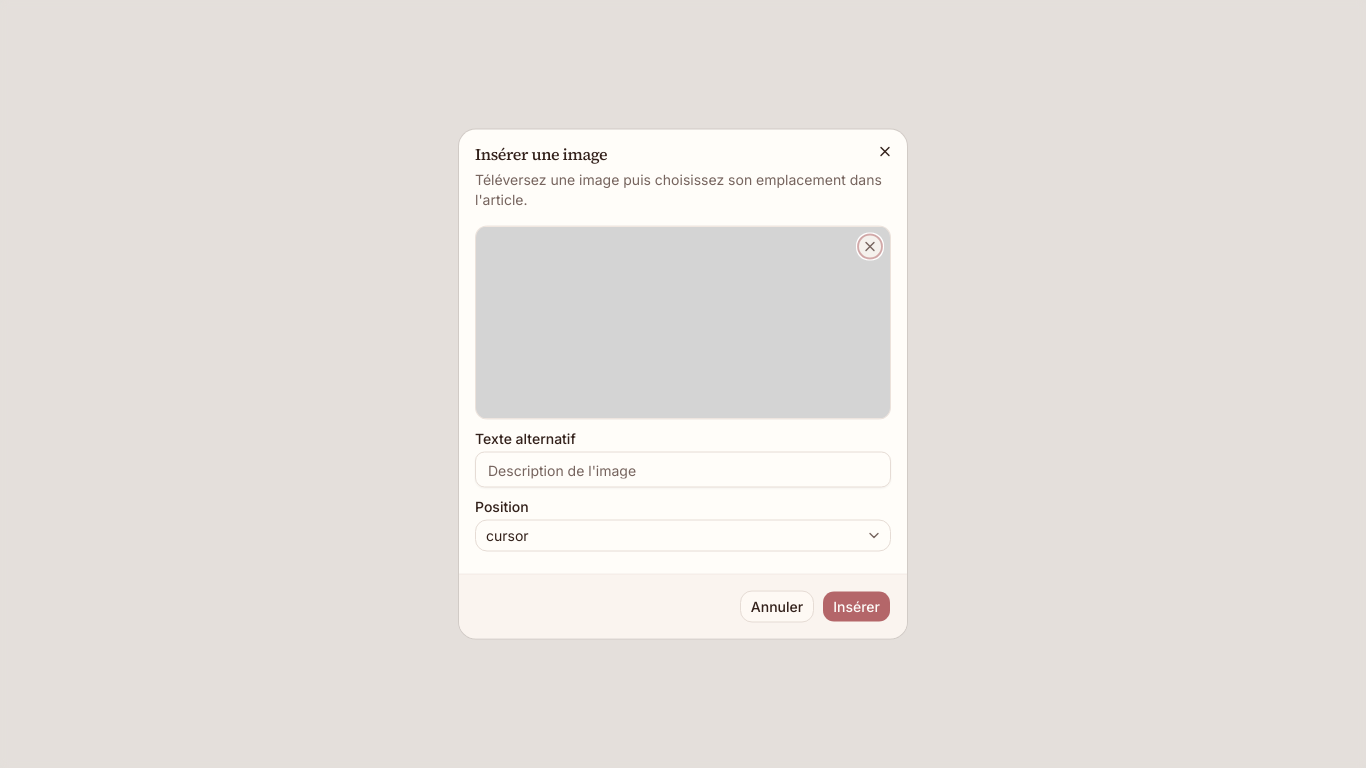
Scenario: InsertImageDialog › removes the preview before inserting
Earlier steps of the test are not shown.
Check: the button "Insérer" is enabled, box left=822, top=590, right=891, bottom=622
Click the 2nd button at (870, 246), box left=858, top=234, right=882, bottom=258
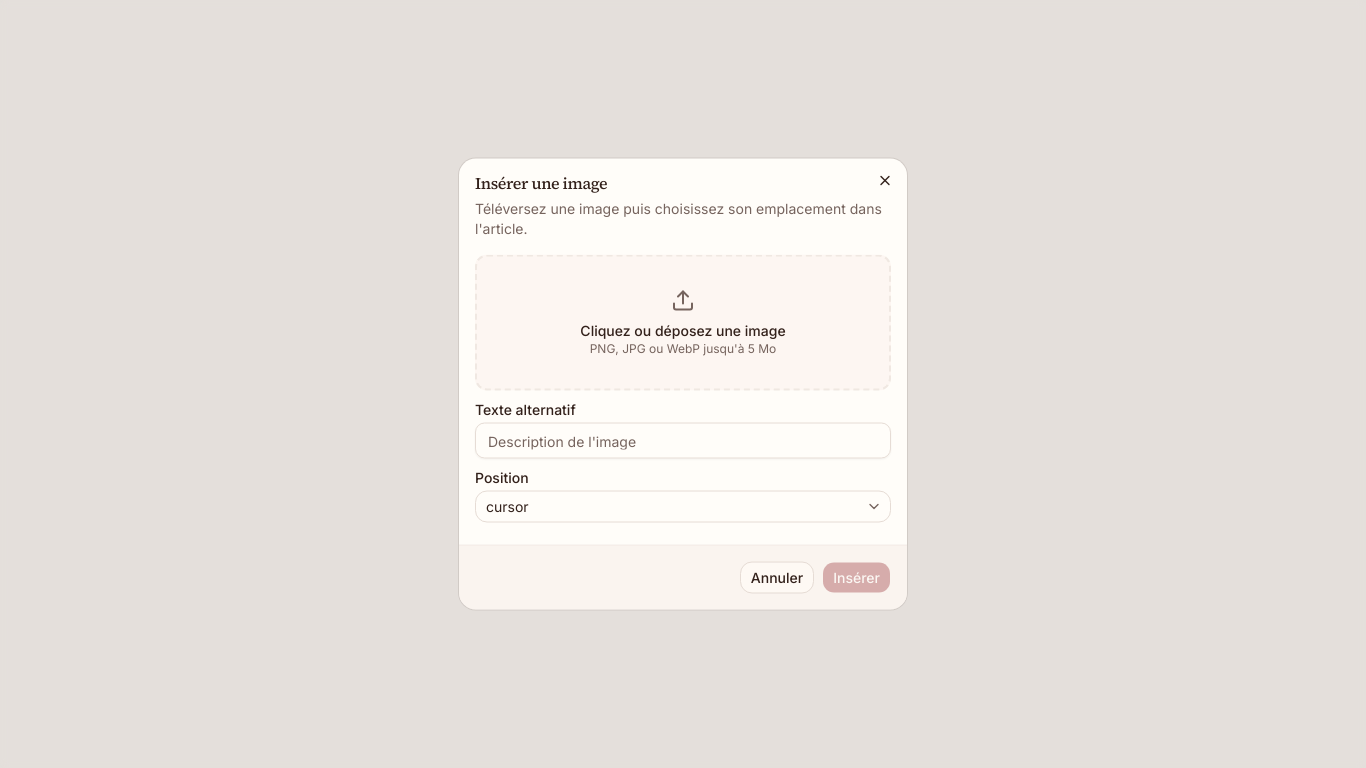
Check: the button "Insérer" is disabled, box left=822, top=562, right=891, bottom=594
